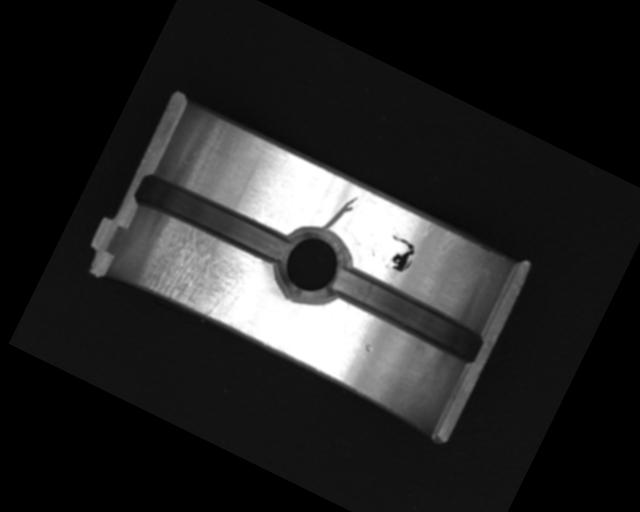blot: (377, 232, 421, 277)
bruise: (361, 340, 376, 354)
gap: (322, 258, 489, 369), (131, 167, 291, 270)
hole: (263, 217, 361, 316)
nick: (321, 188, 361, 239), (253, 204, 274, 226)
scratch: (128, 211, 263, 328)
